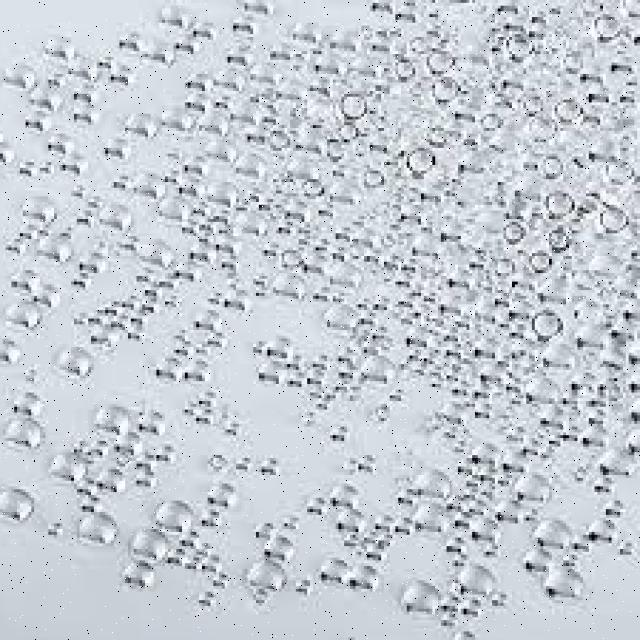raindrop: (400, 494, 457, 550), (448, 557, 508, 606), (518, 298, 572, 352), (126, 223, 176, 280), (392, 571, 449, 619), (262, 260, 318, 308), (67, 503, 121, 552), (408, 458, 459, 509), (0, 406, 50, 458), (541, 561, 590, 613), (523, 508, 575, 557), (84, 392, 134, 442), (154, 182, 204, 232), (320, 292, 368, 344), (144, 489, 200, 533), (237, 554, 294, 596), (55, 337, 101, 389), (122, 521, 176, 565), (46, 444, 96, 491), (509, 465, 560, 511), (395, 141, 449, 182), (225, 204, 275, 248), (194, 172, 246, 212), (354, 345, 402, 387), (534, 186, 576, 231), (515, 110, 563, 148), (423, 69, 467, 110), (588, 8, 632, 48), (498, 27, 542, 66), (492, 212, 537, 250), (0, 484, 37, 528), (592, 198, 632, 238), (330, 86, 373, 122), (547, 93, 589, 128), (517, 250, 558, 282), (538, 225, 577, 258), (426, 40, 459, 78), (387, 54, 425, 86), (332, 114, 367, 146), (318, 139, 348, 164)
